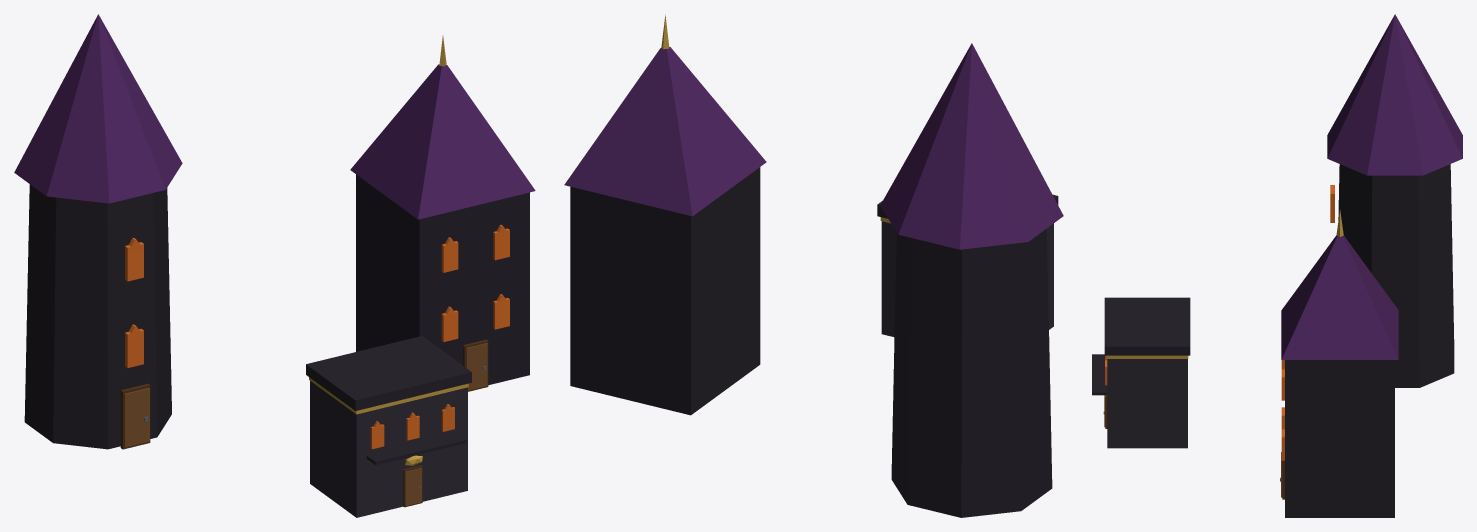
File: demon_compound.glb
3 views of the same model, side by side, from view 1: azimuth 30°, elevation 25°; view 2: azimuth 150°, elevation 25°; view 3: azimuth 270°, elevation 25° (orthographic). The views are drawn at different scales.
Visible parts, largest first — view 1: demon_compound; view 2: demon_compound; view 3: demon_compound.
Boxes of the visible parts, x1,y1,x2,y2 form: demon_compound: (14, 14, 535, 517); demon_compound: (564, 14, 1063, 517); demon_compound: (1092, 14, 1462, 517).
Size of the model in its own units: 4.78 by 4.2 by 4.04.
